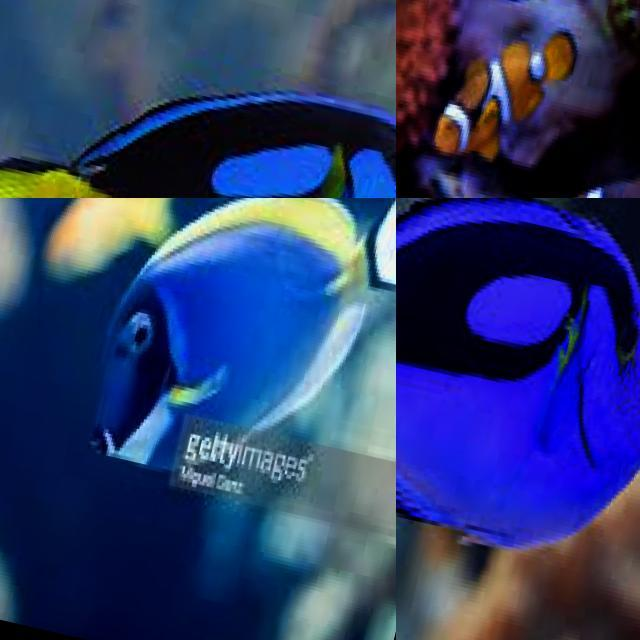BlueTang: (69, 198, 396, 536), (396, 198, 640, 610), (0, 0, 396, 198), (396, 0, 640, 187)
